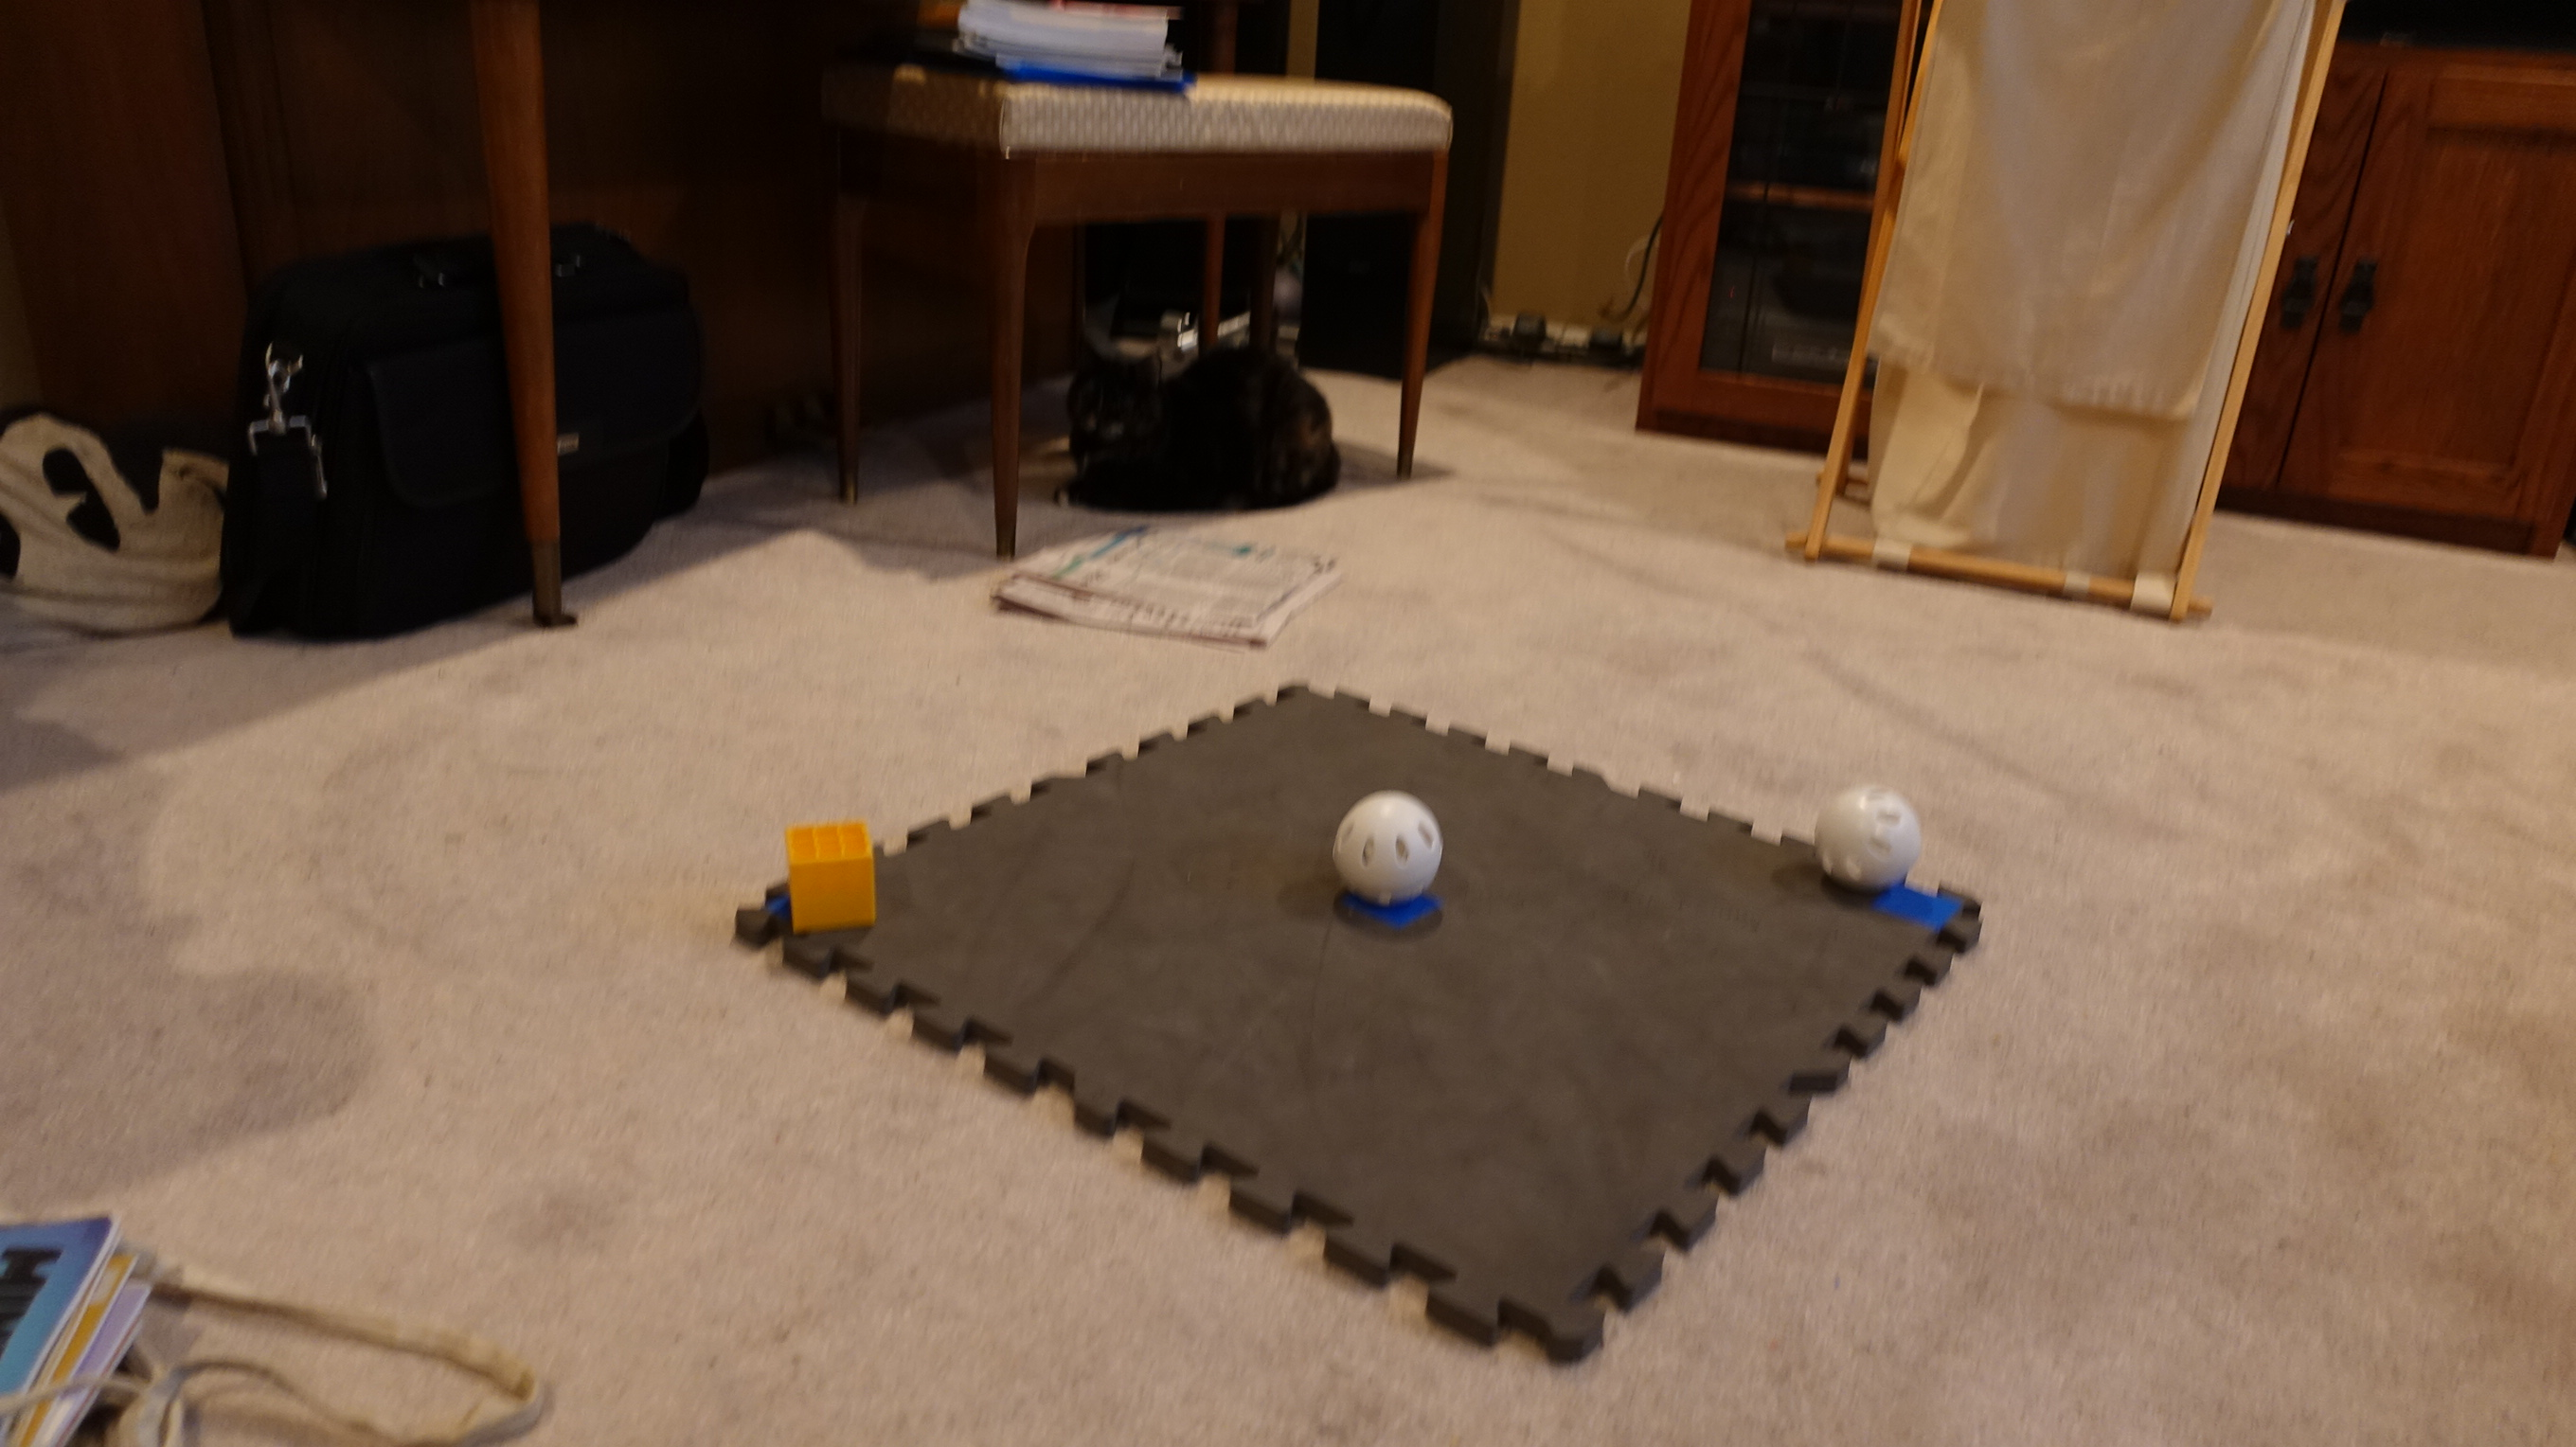gold: (773, 807, 886, 946)
silver: (1806, 777, 1934, 902), (1334, 784, 1440, 913)
